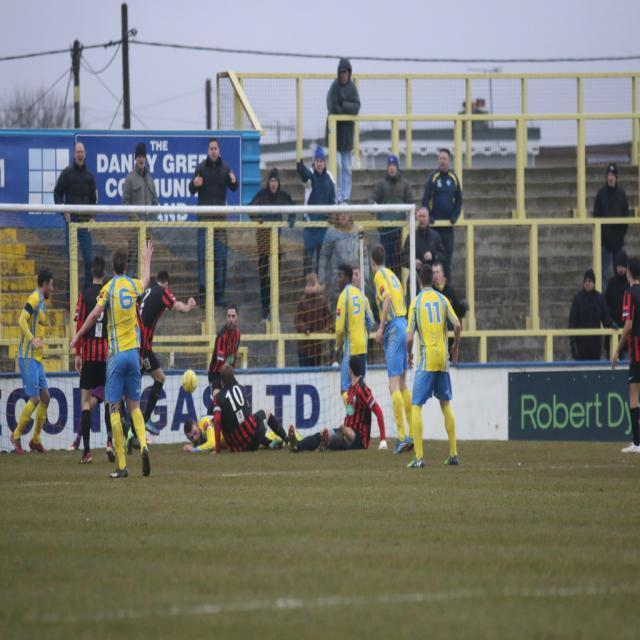ball: (182, 369, 200, 395)
